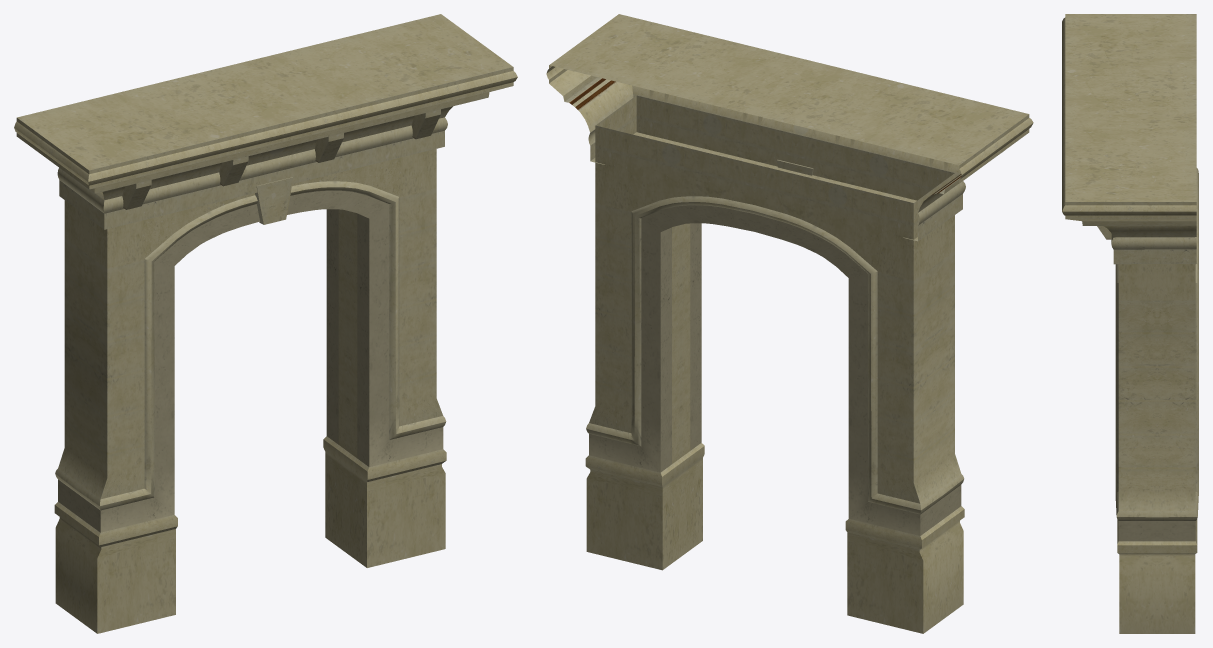
Rendered from Prop_EntranceArch.gltf.
3 views of the same model, side by side, from view 1: azimuth 30°, elevation 25°; view 2: azimuth 150°, elevation 25°; view 3: azimuth 270°, elevation 25° (orthographic). The views are drawn at different scales.
Visible parts, largest first — view 1: Prop_EntranceArch; view 2: Prop_EntranceArch; view 3: Prop_EntranceArch.
Part boxes in pixels (box(x1,y1,x2,y2)): Prop_EntranceArch: box(14, 14, 517, 633); Prop_EntranceArch: box(546, 14, 1033, 633); Prop_EntranceArch: box(1062, 14, 1198, 633).
Bounding box in the file's own units: 4.04 × 4.44 × 1.23.
Materials: 2 (2 with a texture image).
